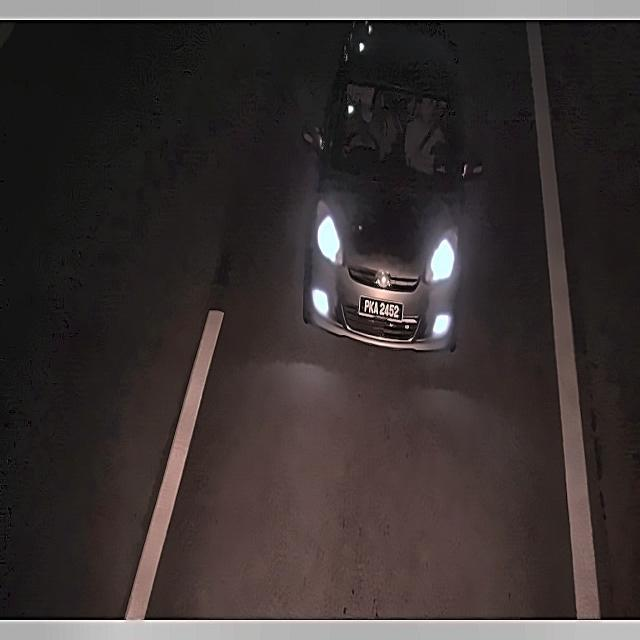car: (356, 292, 408, 328)
